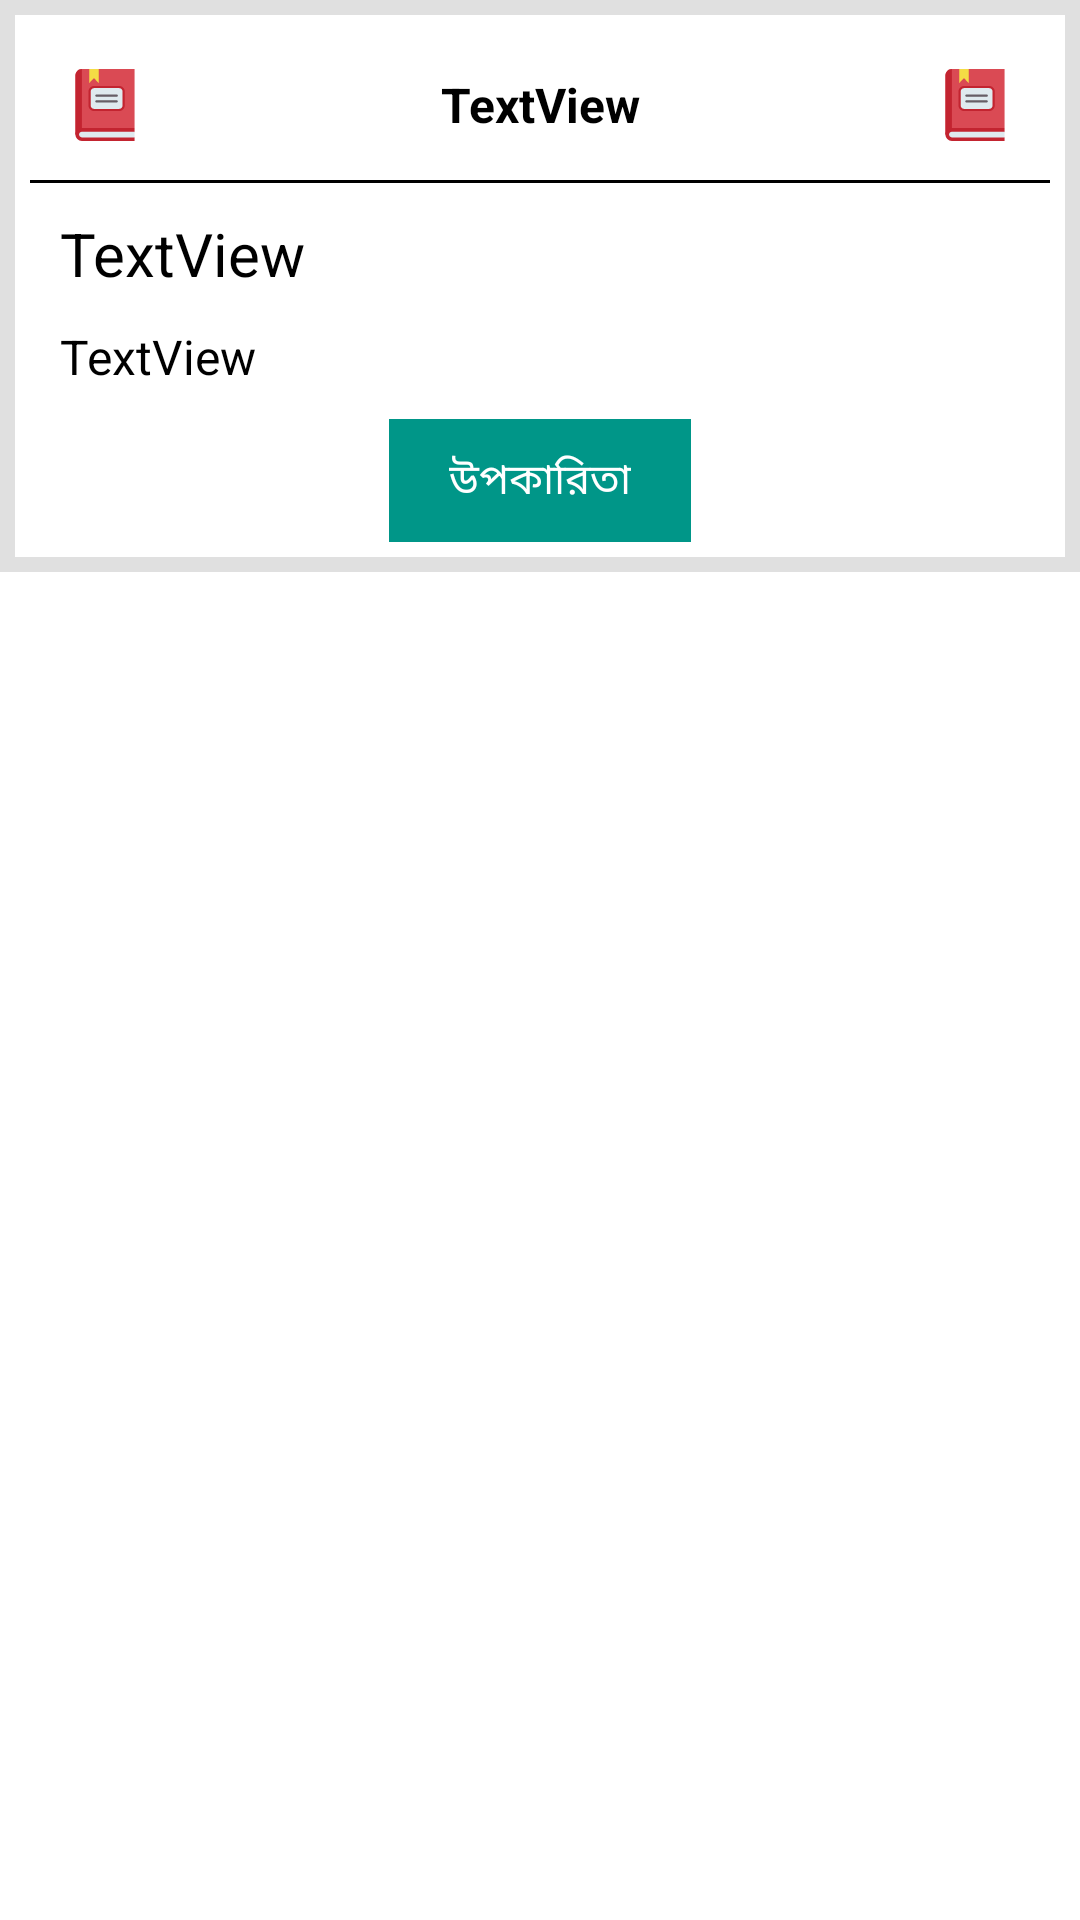

Screen size 1080×1920. Icon name, then its box in pixels as detection(x1, y1, x2, y2):
book: detection(75, 69, 135, 141), detection(945, 69, 1005, 141)
